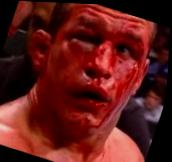Fire: (41, 25, 145, 138)
